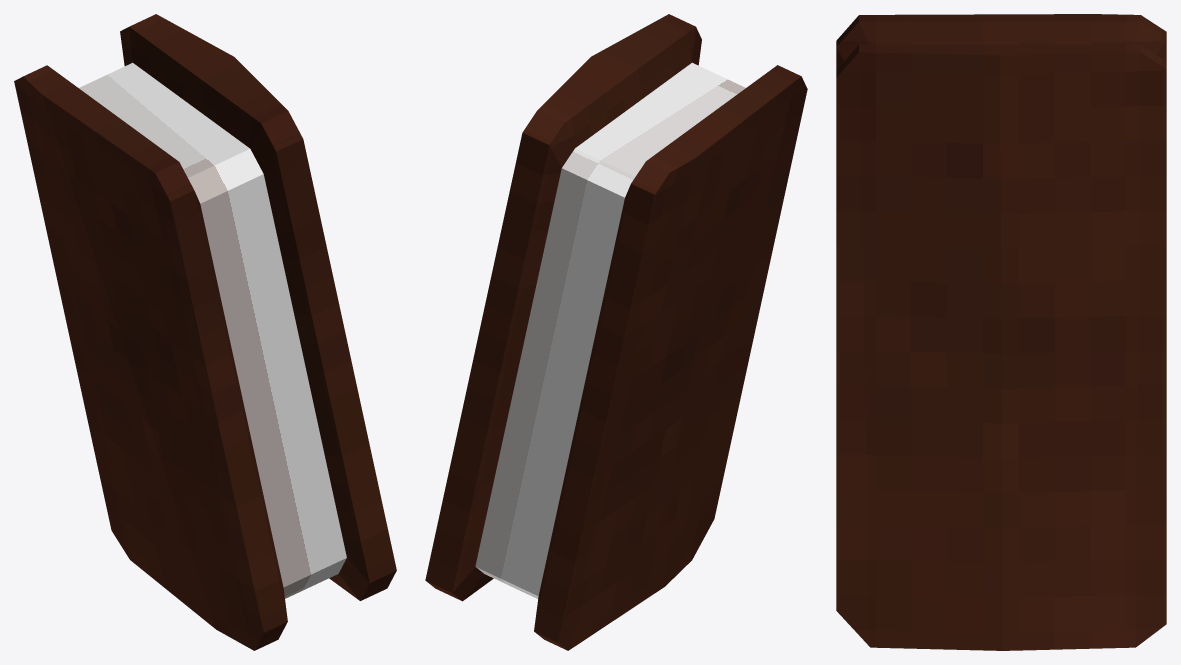
File: H_IcecreamSandwich.fbx
3 renders of one model, left to right at view 1: azimuth 30°, elevation 25°; view 2: azimuth 150°, elevation 25°; view 3: azimuth 270°, elevation 25°, orthographic. The views are drawn at different scales.
Visible parts, largest first — view 1: IcecreamSandwich; view 2: IcecreamSandwich; view 3: IcecreamSandwich.
Part boxes in pixels (left/top/right/bottom): IcecreamSandwich: left=14, top=14, right=396, bottom=650; IcecreamSandwich: left=425, top=14, right=807, bottom=650; IcecreamSandwich: left=836, top=14, right=1166, bottom=650.
Size of the model in its own units: 12.6 by 25.76 by 13.35.
